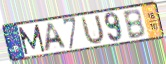7: (62, 17, 79, 51)
9: (102, 11, 124, 44)
A: (43, 22, 69, 53)
B: (122, 8, 147, 41)
M: (17, 23, 47, 56)
U: (80, 13, 106, 47)
